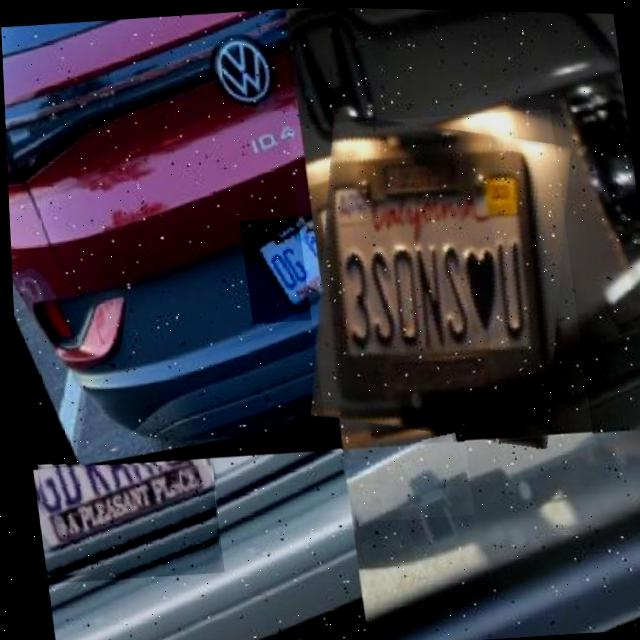LicensePlate: (284, 102, 590, 455), (27, 451, 220, 586), (336, 433, 470, 523), (242, 215, 324, 320)
